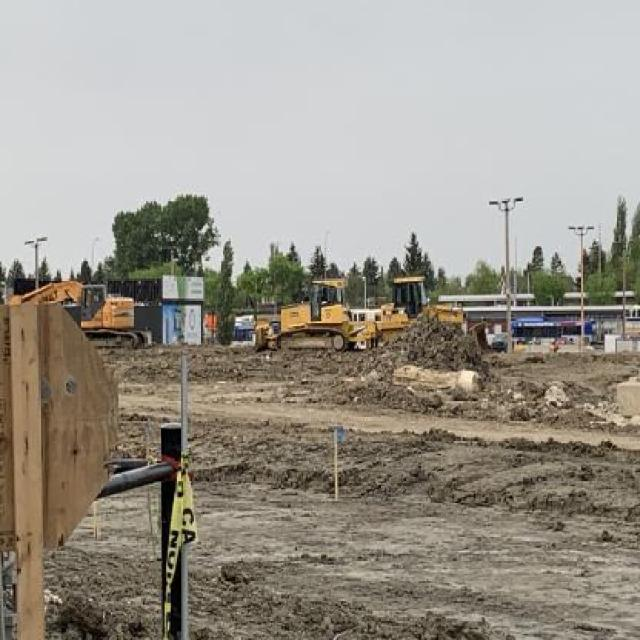excavator: (6, 274, 154, 349)
